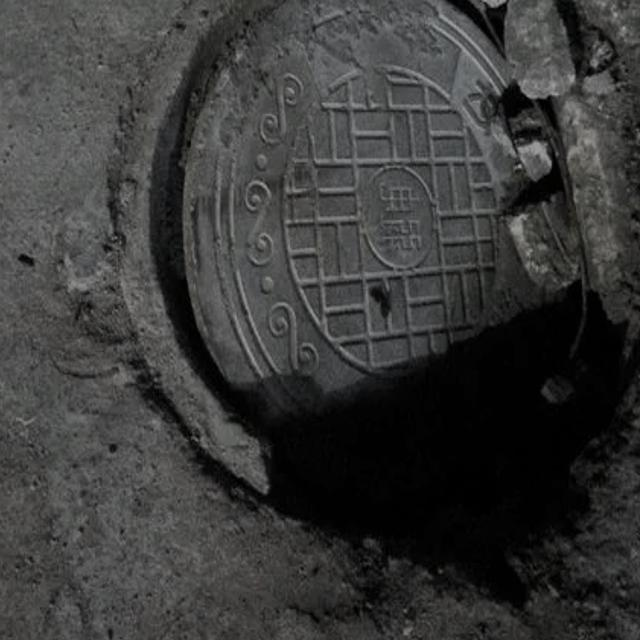circle: (91, 0, 640, 560)
